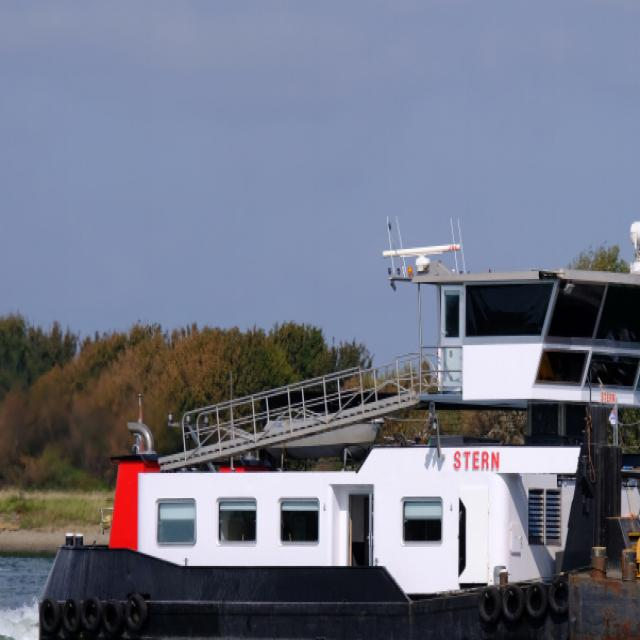tugboat: (34, 214, 640, 640)
